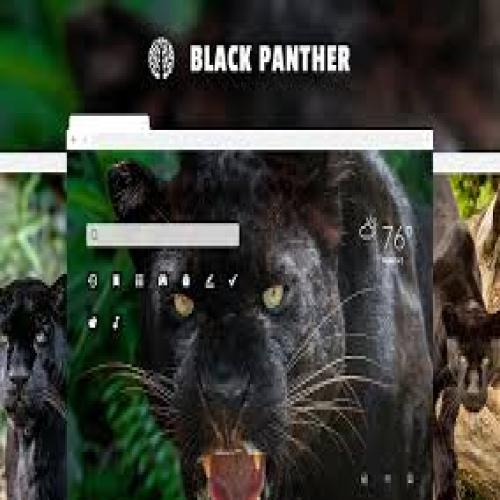panther-endangered: (108, 154, 424, 486), (434, 180, 499, 489), (0, 271, 69, 500)
